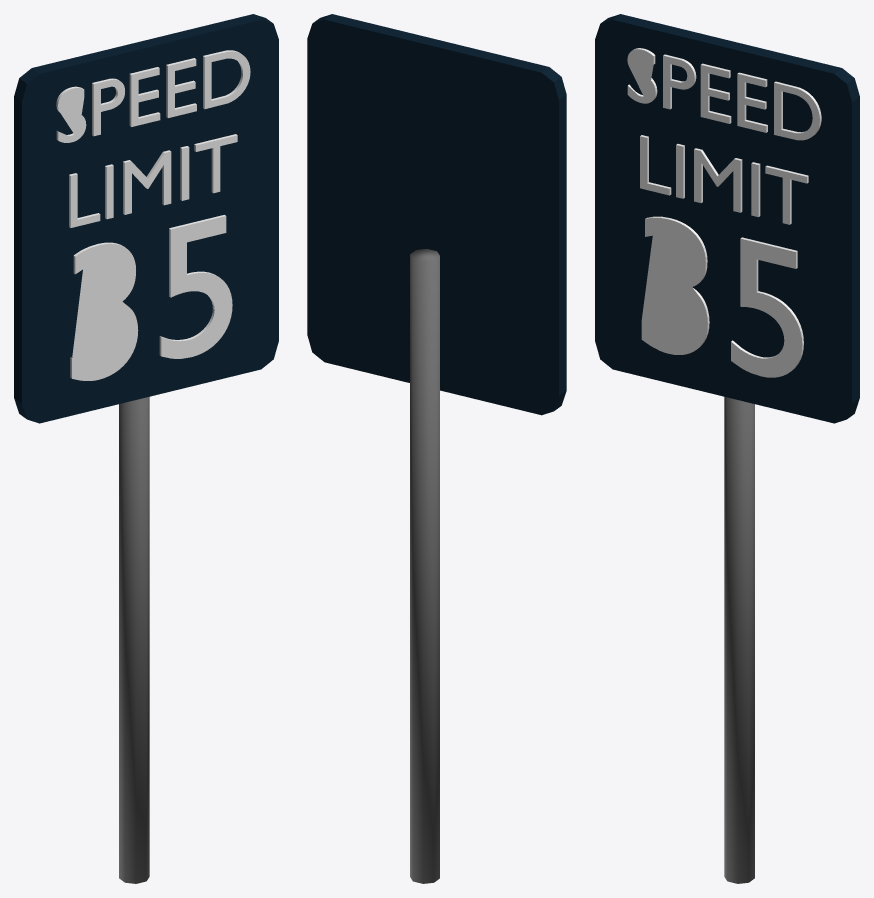
The model's file is Prop_StreetSign_Speed_35.fbx.
3 renders of one model, left to right at view 1: azimuth 30°, elevation 25°; view 2: azimuth 150°, elevation 25°; view 3: azimuth 330°, elevation 25°, orthographic. The views are drawn at different scales.
Visible parts, largest first — view 1: Prop_StreetSign_Speed_35; view 2: Prop_StreetSign_Speed_35; view 3: Prop_StreetSign_Speed_35.
Part boxes in pixels (bbox=[...]): Prop_StreetSign_Speed_35: bbox=[14, 14, 278, 883]; Prop_StreetSign_Speed_35: bbox=[307, 14, 566, 883]; Prop_StreetSign_Speed_35: bbox=[595, 14, 859, 883].
Size of the model in its own units: 140 by 438 by 23.65.
